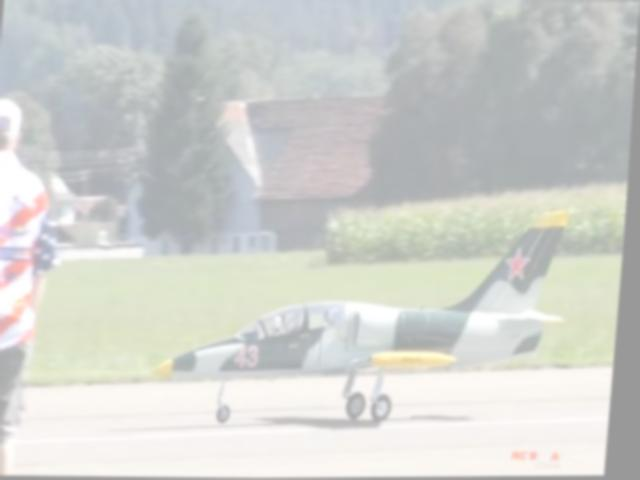uav: (148, 199, 588, 433)
